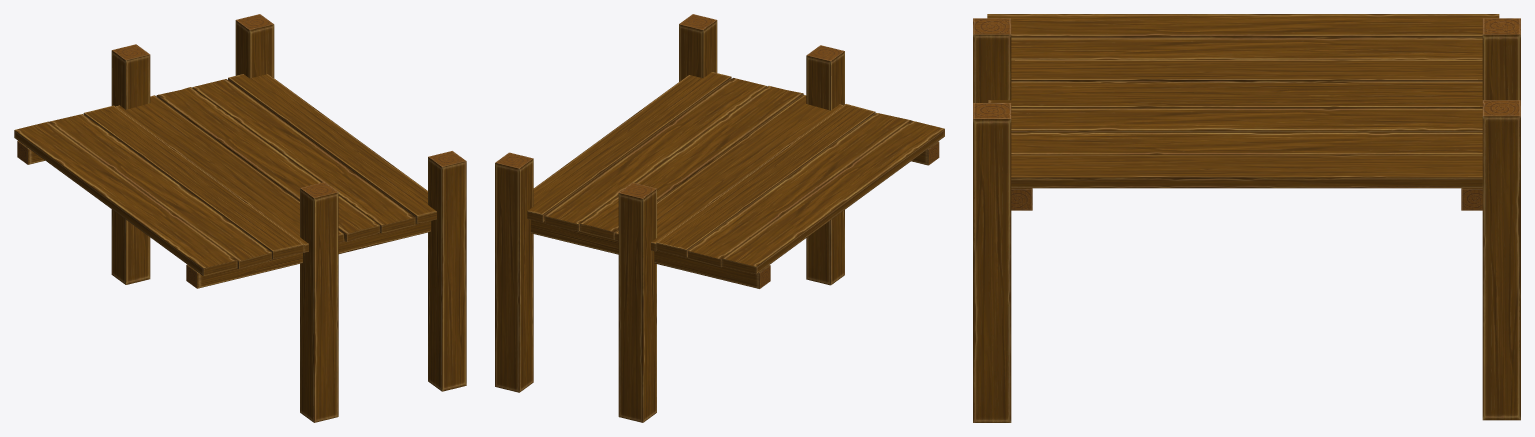
File: modular_docks_01_(2).gltf
3 renders of one model, left to right at view 1: azimuth 30°, elevation 25°; view 2: azimuth 150°, elevation 25°; view 3: azimuth 270°, elevation 25°, orthographic. The views are drawn at different scales.
Parts seen in each view (by area): view 1: SM_Docks_01; view 2: SM_Docks_01; view 3: SM_Docks_01.
Part boxes in pixels (x1,y1,x2,y2): SM_Docks_01: (14,14,466,422); SM_Docks_01: (495,14,944,422); SM_Docks_01: (973,14,1520,422).
Size of the model in its own units: 6.26 by 5.2 by 8.49.
1 material, 1 textured.
